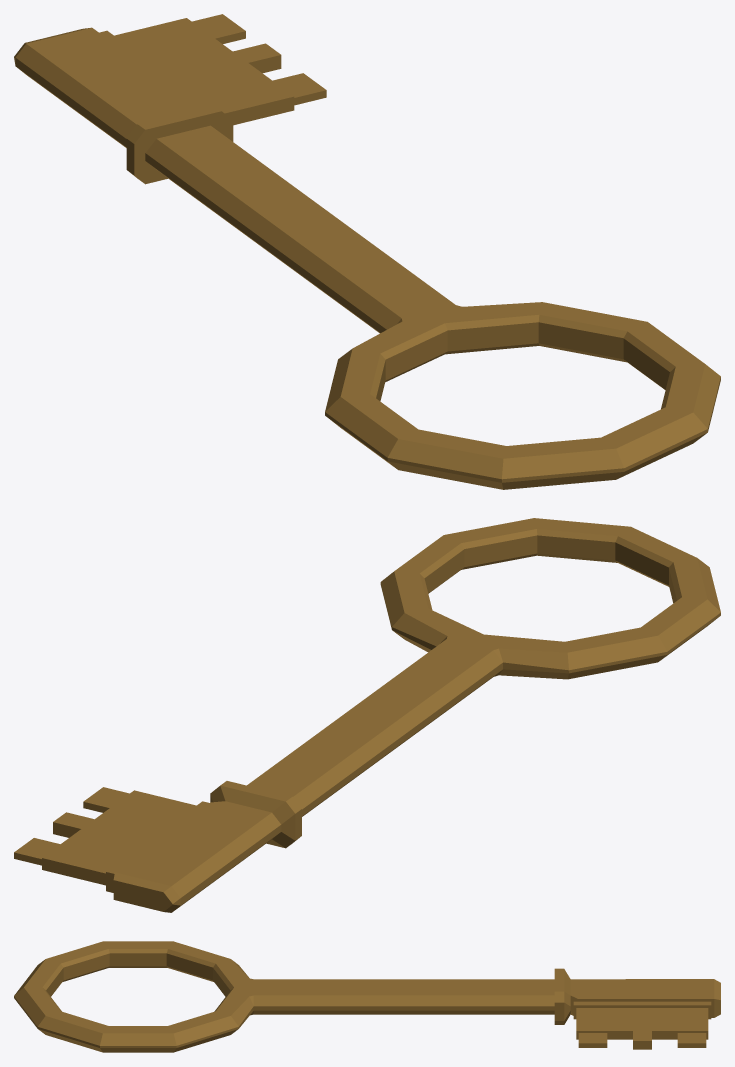
Rendered from Key.fbx.
3 renders of one model, top to bottom at view 1: azimuth 30°, elevation 25°; view 2: azimuth 150°, elevation 25°; view 3: azimuth 270°, elevation 25°, orthographic. The views are drawn at different scales.
Visible parts, largest first — view 1: Circle.007; view 2: Circle.007; view 3: Circle.007.
Part boxes in pixels (left/top/right/bottom): Circle.007: left=14, top=14, right=720, bottom=489; Circle.007: left=14, top=518, right=720, bottom=912; Circle.007: left=14, top=941, right=720, bottom=1052.
Bounding box in the file's own units: 182 × 28.42 × 544.
